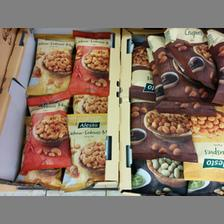Nuss: (131, 97, 197, 164), (18, 89, 70, 173), (60, 113, 106, 192), (162, 27, 214, 89), (24, 32, 74, 96), (68, 29, 108, 96)
